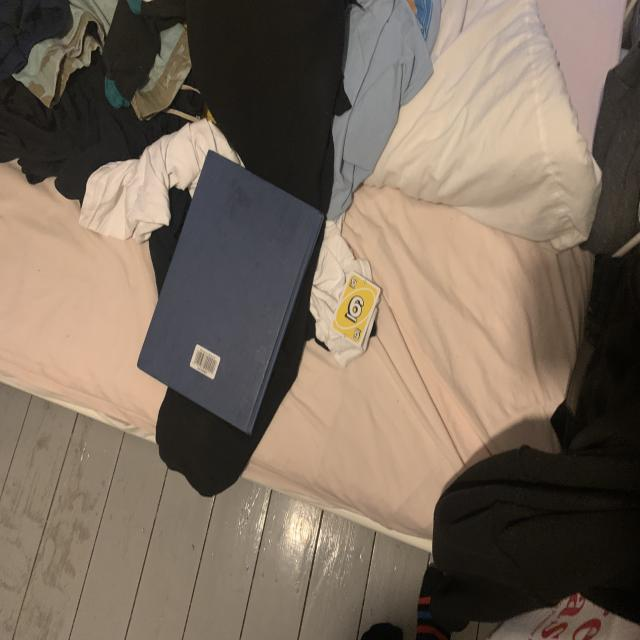lyellow-6: (348, 276, 358, 290)
